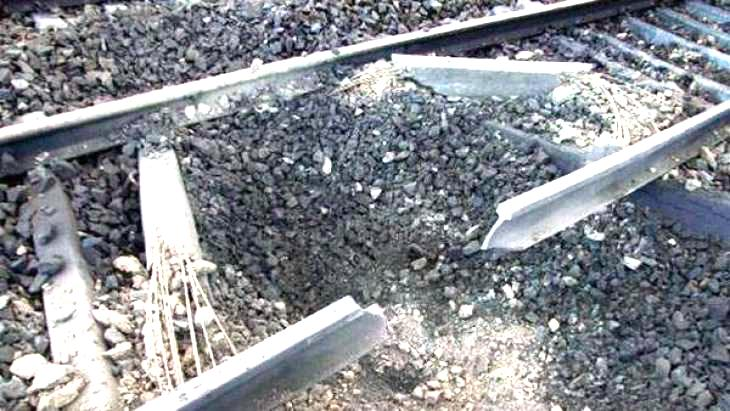duan lie: (343, 208, 524, 340)
